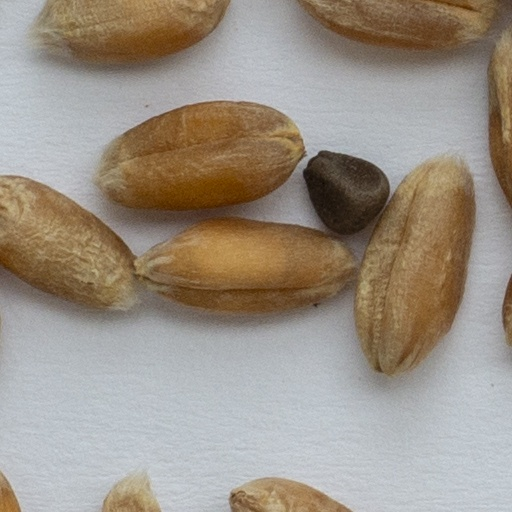Wheat-grain-damaged-poly: (98, 469, 165, 511)
